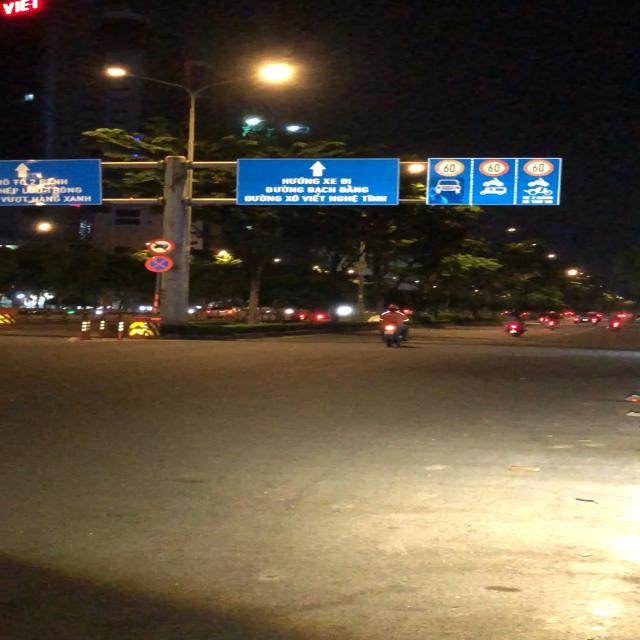Bien bao cam dung xe va do xe: (144, 255, 174, 272)
Bien bao cam xe oto tai: (144, 238, 176, 255)
Bien bao toc do toi da cho phep: (521, 158, 557, 176), (477, 158, 511, 177), (432, 159, 467, 177)
